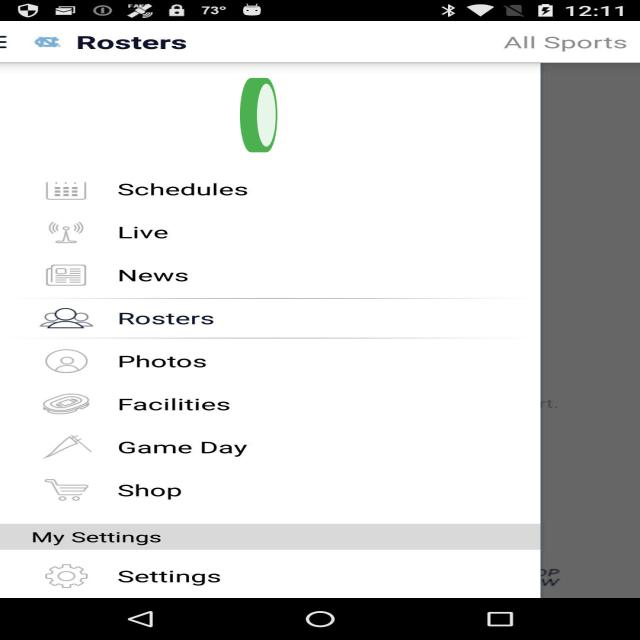social proof: (238, 49, 279, 187)
